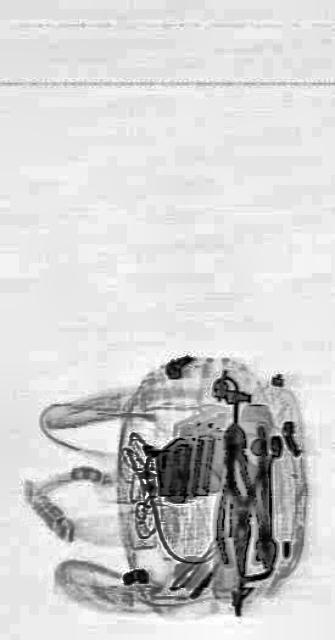Pliers: (212, 421, 262, 564)
